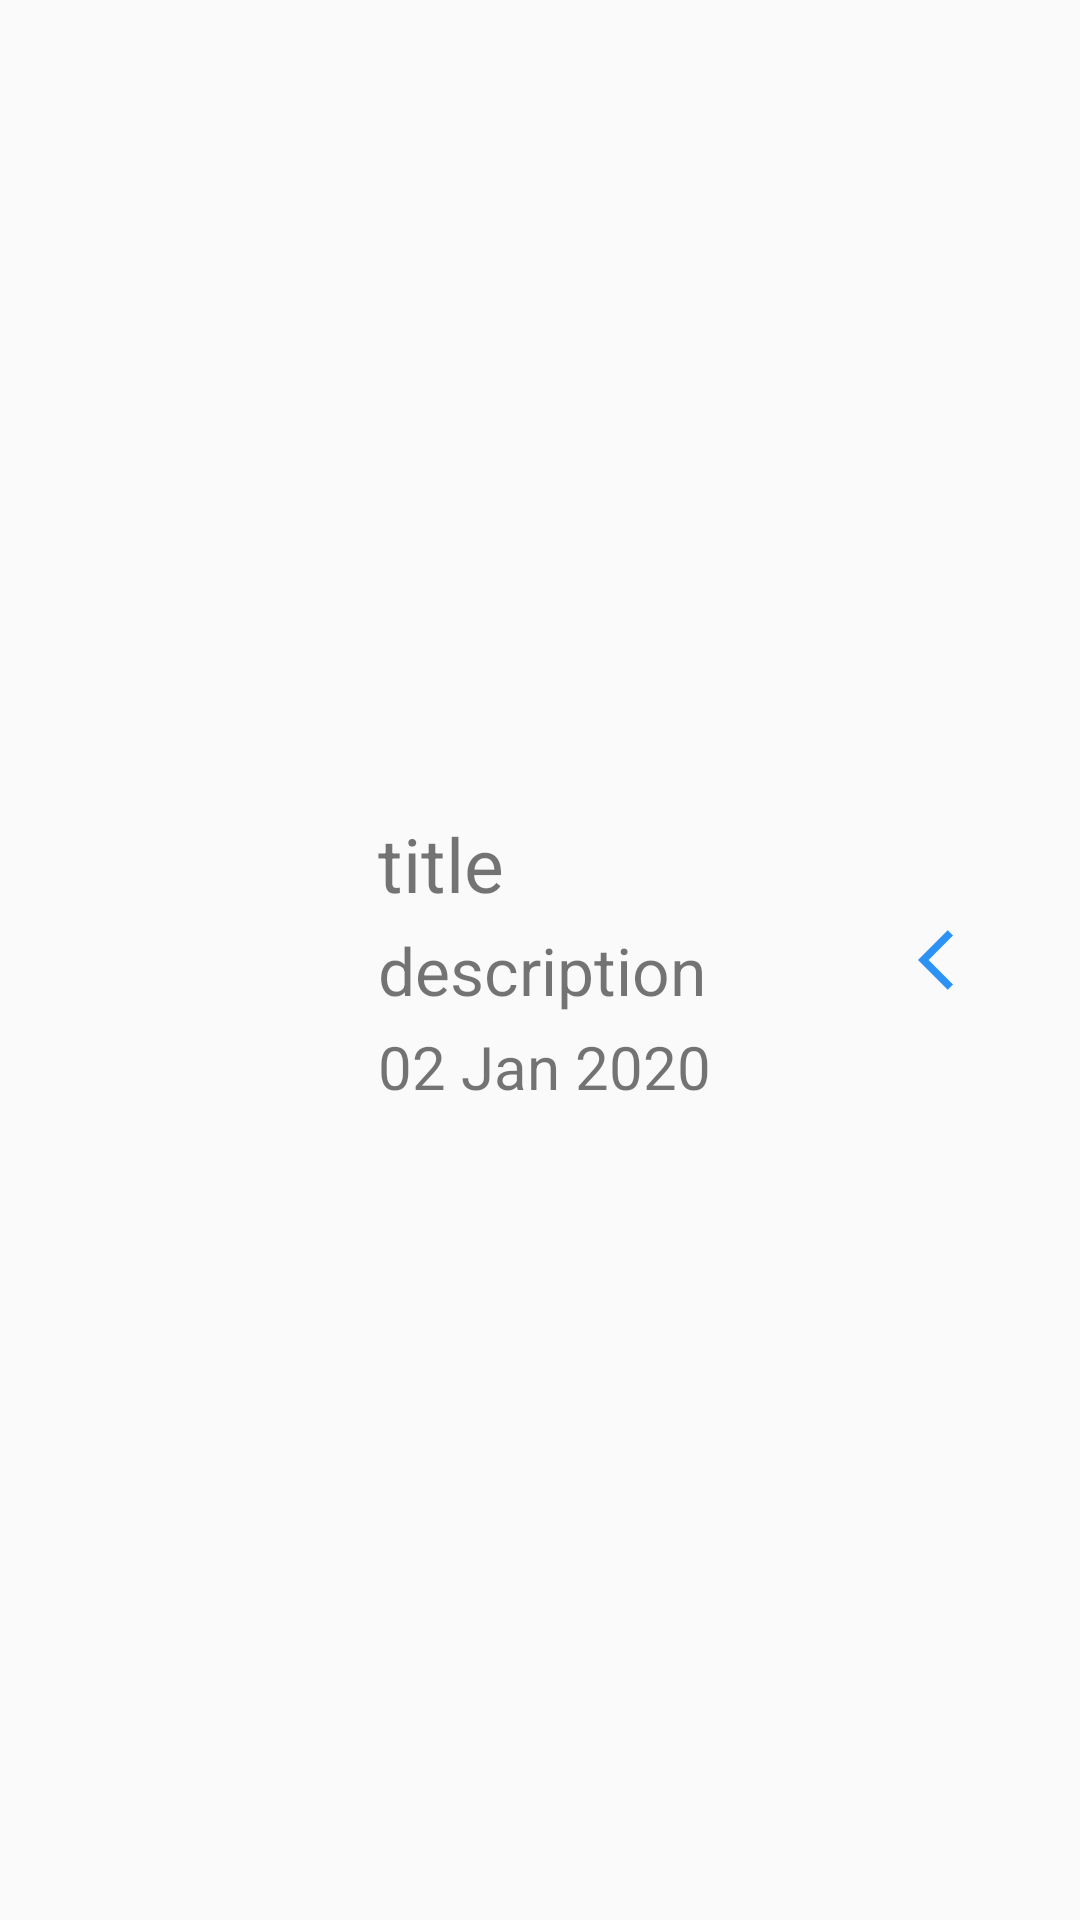

Point at icon controls on the screen. Image size 1080 × 1920, points as (x,y).
arrow back: (935,960)
